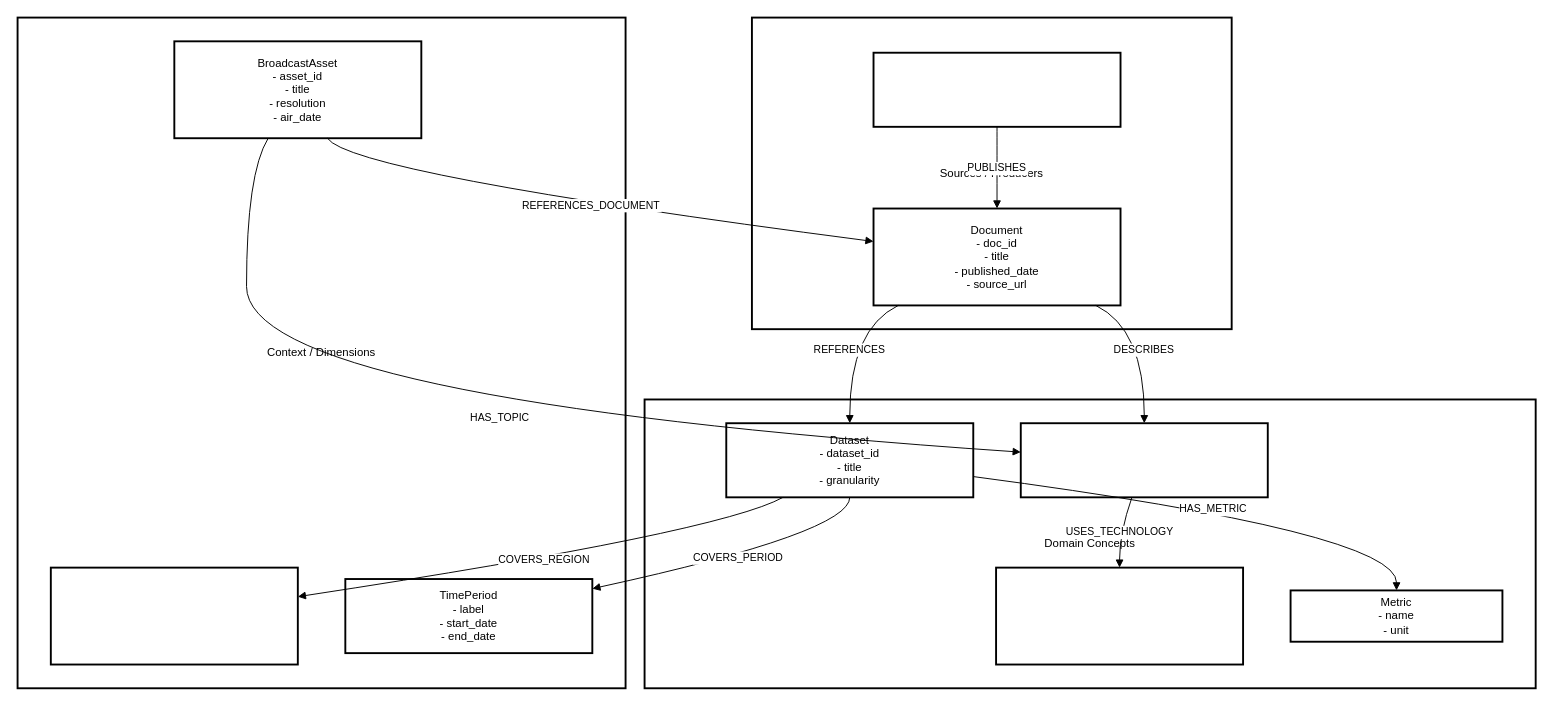
Some shapes in this 1552 by 705 pixel diagram are drawn without their labels. The shapes that lost their labels are listed below. From the top down, each one's centre as x and y in pixels, then its label:
At (996,89): "Organization - name - type - website".
At (1143,460): "Service - name - category".
At (173,615): "Region - name - iso_code - latitude - longitude".
At (1119,615): "Technology - name - category - standard_family".
